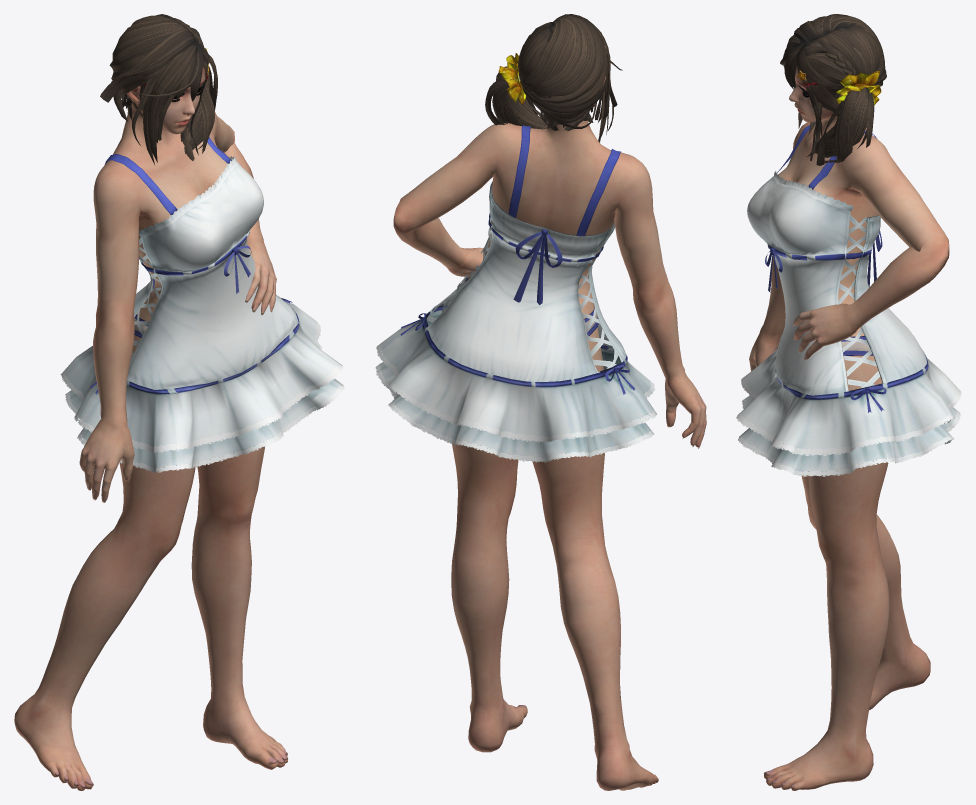
File: misaki.obj
The picture shows the model from 3 angles, left to right: view 1: azimuth 30°, elevation 25°; view 2: azimuth 150°, elevation 25°; view 3: azimuth 270°, elevation 25°; orthographic projection. The views are drawn at different scales.
Visible parts, largest first — view 1: Model001_40_body_0.1_16_16.011, Model001_40_dress a_0.1_16_16.002, Model001_41_dress c_0.1_16_16.002, Model001_41_hair_0.1_16_16.008, Model001_40_dress b_0.1_16_16.002, Model001_41_ponytail_0.1_16_16.008, Model001_40_face_0.1_16_16.011; view 2: Model001_40_body_0.1_16_16.011, Model001_40_dress a_0.1_16_16.002, Model001_41_dress c_0.1_16_16.002, Model001_41_hair_0.1_16_16.008, Model001_40_dress b_0.1_16_16.002, Model001_41_ponytail_0.1_16_16.008, Model001_40_ribbon back_0.1_16_16.002, Model001_40_acs 2_0.1_16_16.008; view 3: Model001_40_body_0.1_16_16.011, Model001_40_dress a_0.1_16_16.002, Model001_41_dress c_0.1_16_16.002, Model001_41_hair_0.1_16_16.008, Model001_40_dress b_0.1_16_16.002, Model001_41_ponytail_0.1_16_16.008, Model001_40_acs 2_0.1_16_16.008, Model001_40_face_0.1_16_16.011.
Part boxes in pixels (x1,y1,x2,y2): Model001_40_body_0.1_16_16.011: [14, 112, 287, 790]; Model001_40_dress a_0.1_16_16.002: [104, 137, 299, 394]; Model001_41_dress c_0.1_16_16.002: [60, 156, 343, 452]; Model001_41_hair_0.1_16_16.008: [100, 14, 209, 164]; Model001_40_dress b_0.1_16_16.002: [65, 342, 344, 472]; Model001_41_ponytail_0.1_16_16.008: [180, 54, 217, 160]; Model001_40_face_0.1_16_16.011: [126, 67, 205, 134]; Model001_40_body_0.1_16_16.011: [393, 121, 706, 790]; Model001_40_dress a_0.1_16_16.002: [422, 125, 627, 387]; Model001_41_dress c_0.1_16_16.002: [376, 183, 657, 442]; Model001_41_hair_0.1_16_16.008: [518, 14, 622, 142]; Model001_40_dress b_0.1_16_16.002: [375, 310, 654, 462]; Model001_41_ponytail_0.1_16_16.008: [485, 66, 547, 129]; Model001_40_ribbon back_0.1_16_16.002: [513, 229, 562, 304]; Model001_40_acs 2_0.1_16_16.008: [498, 53, 526, 103]; Model001_40_body_0.1_16_16.011: [749, 119, 949, 790]; Model001_40_dress a_0.1_16_16.002: [747, 121, 928, 399]; Model001_41_dress c_0.1_16_16.002: [736, 171, 961, 455]; Model001_41_hair_0.1_16_16.008: [780, 14, 886, 156]; Model001_40_dress b_0.1_16_16.002: [738, 371, 960, 476]; Model001_41_ponytail_0.1_16_16.008: [810, 87, 874, 165]; Model001_40_acs 2_0.1_16_16.008: [836, 71, 881, 104]; Model001_40_face_0.1_16_16.011: [789, 66, 842, 122].
Size of the model in its own units: 0.6379 by 1.64 by 0.4559.
